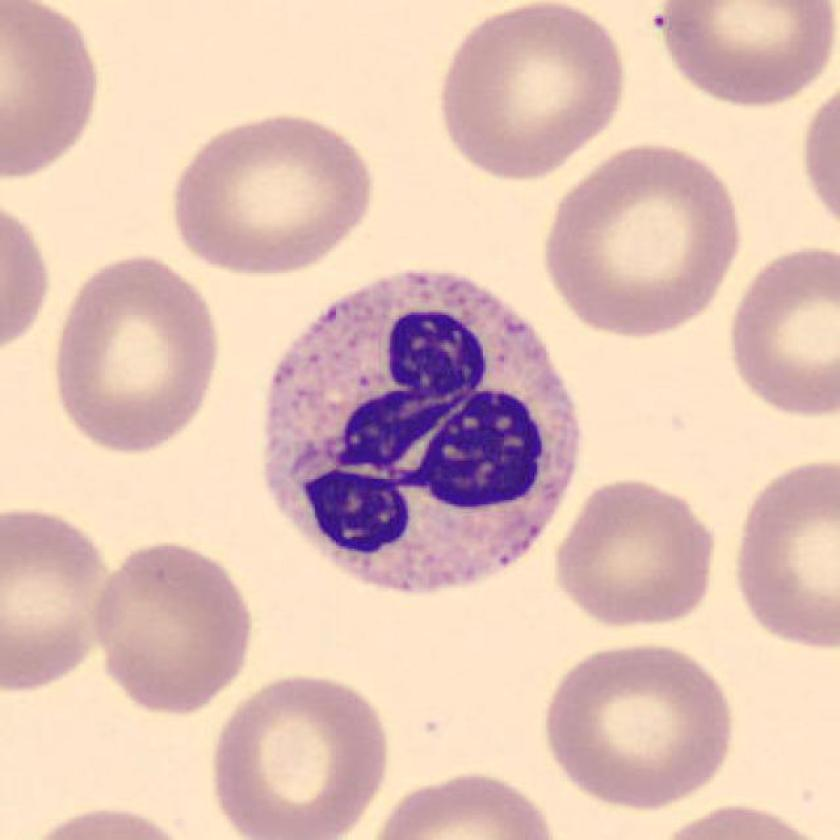neutrophil: (264, 273, 577, 590)
